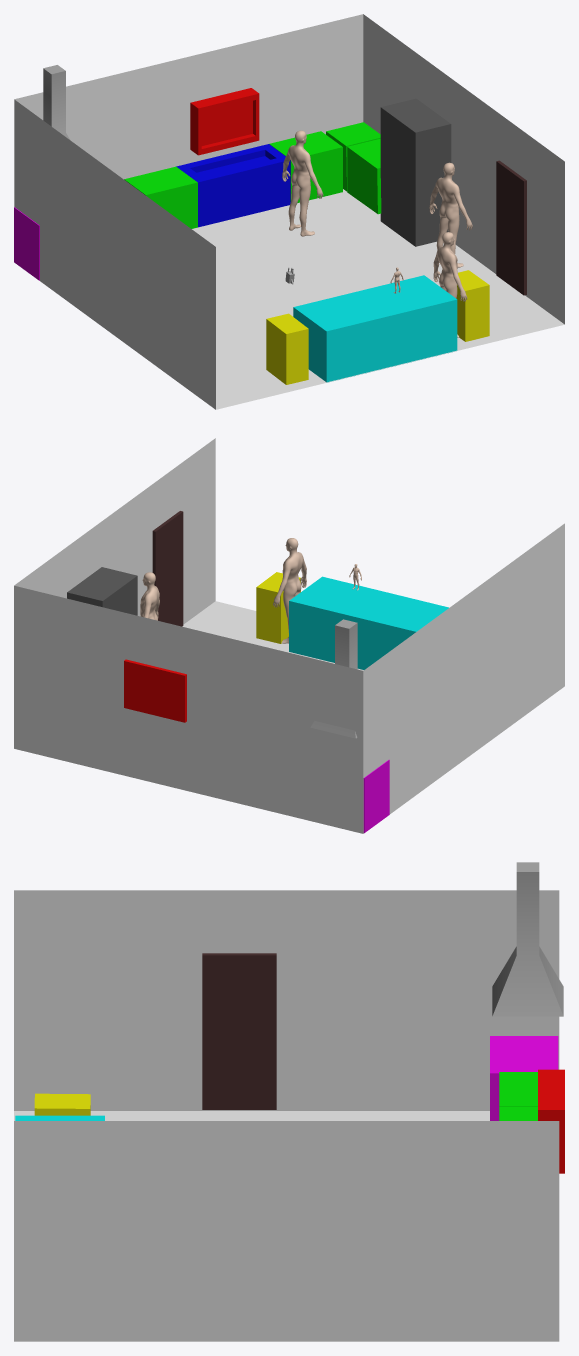
Rendered from Blockout_Kitchen.fbx.
3 views of the same model, one above another, from view 1: azimuth 30°, elevation 25°; view 2: azimuth 150°, elevation 25°; view 3: azimuth 270°, elevation 25° (orthographic). The views are drawn at different scales.
Visible parts, largest first — view 1: SM_Kitchen, Kitchentable, Fridge, Kithensink, Window, Kitchendoor, Chair, Bench2, Bench3, Bench4, humanBody2, Kitchenchair (+5 smaller); view 2: SM_Kitchen, Kitchentable, Window, Kitchendoor, Fridge, Kitchenchair, Oven, Fan, humanBody1, HumanBody:humanBody; view 3: SM_Kitchen, Door2, Fan, Oven, Window, Bench1, Chair.
Part boxes in pixels (box(x1,y1,x2,y2)): SM_Kitchen: box(14, 14, 564, 409); Kitchentable: box(293, 275, 457, 382); Fridge: box(380, 98, 451, 246); Kithensink: box(176, 144, 290, 227); Window: box(190, 88, 259, 155); Kitchendoor: box(496, 160, 526, 295); Chair: box(266, 313, 308, 384); Bench2: box(124, 166, 197, 228); Bench3: box(269, 131, 342, 202); Bench4: box(347, 138, 381, 214); humanBody2: box(282, 130, 323, 236); Kitchenchair: box(456, 270, 489, 341); SM_Kitchen: box(14, 438, 564, 833); Kitchentable: box(289, 576, 448, 669); Window: box(124, 659, 186, 722); Kitchendoor: box(152, 511, 183, 626); Fridge: box(67, 567, 137, 615); Kitchenchair: box(256, 572, 300, 643); Oven: box(363, 759, 389, 833); Fan: box(310, 619, 357, 738); humanBody1: box(273, 538, 306, 643); HumanBody:humanBody: box(140, 572, 159, 620); SM_Kitchen: box(14, 890, 559, 1341); Door2: box(202, 953, 276, 1109); Fan: box(492, 862, 563, 1016); Oven: box(490, 1036, 558, 1120); Window: box(538, 1069, 564, 1173); Bench1: box(499, 1072, 537, 1106); Chair: box(34, 1093, 90, 1115).
Size of the model in its own units: 21.04 by 11.2 by 21.21.
